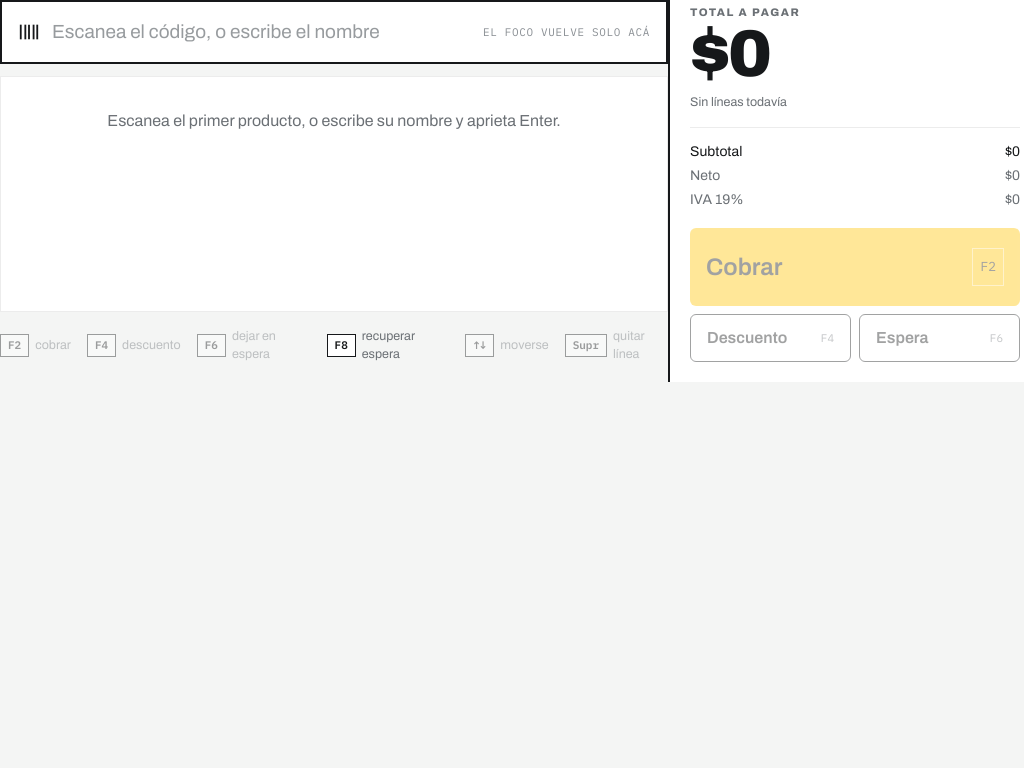
Test case: pagando en efectivo › mientras el billete no alcanza dice «Falta», no un vuelto de $0
Step 1. Type "FH-00010" into the dropdown → {"x": 262, "y": 32}, box [52, 18, 471, 46]
Then press Enter
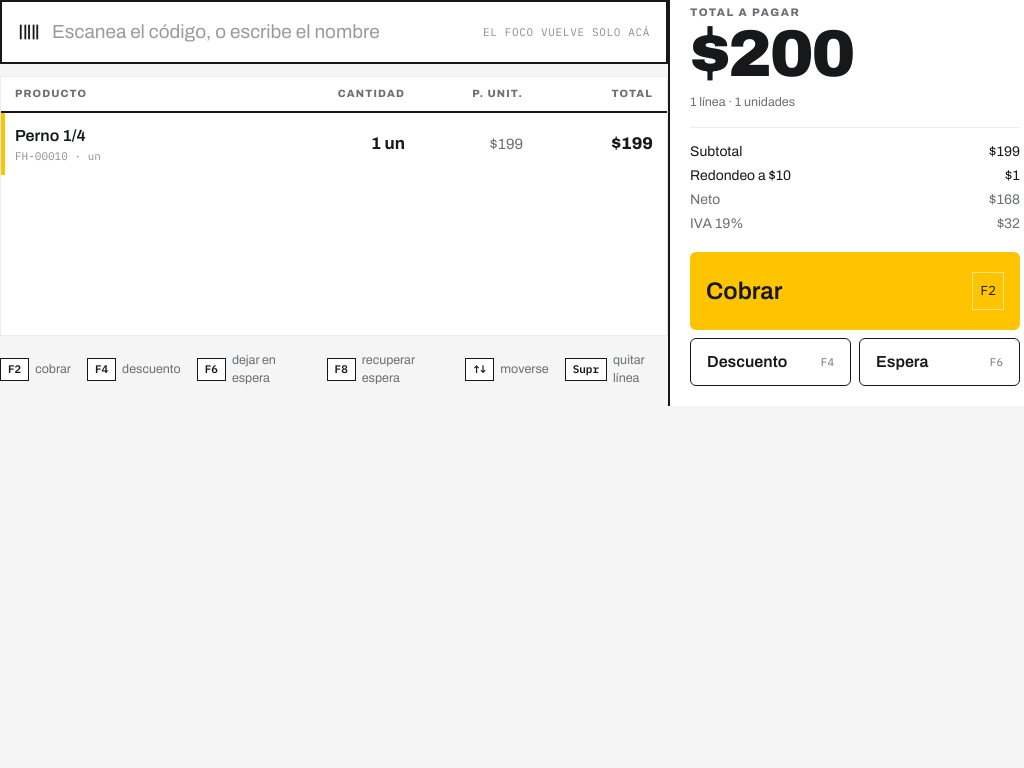
Expected: the table is shown, [1, 77, 667, 175]
Step 2. Press F2
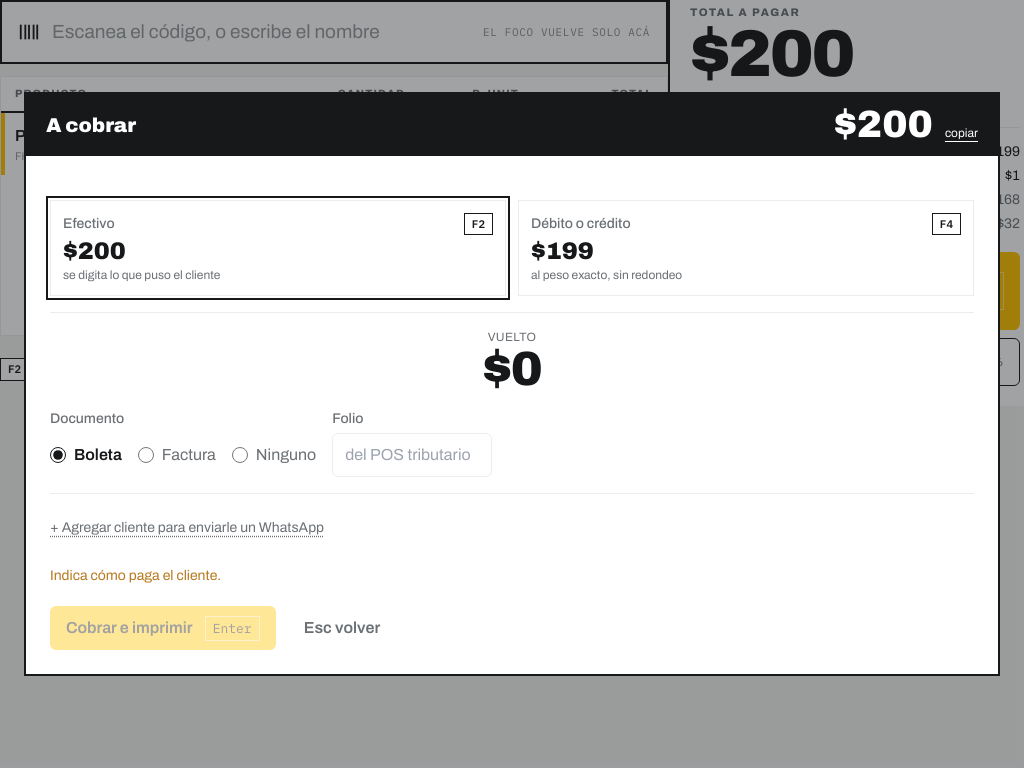
Expected: the dialog is shown
Step 3. Click the button "Efectivo F2 $200 se digita lo que puso el cliente" → {"x": 89, "y": 224}, box [50, 200, 506, 296]
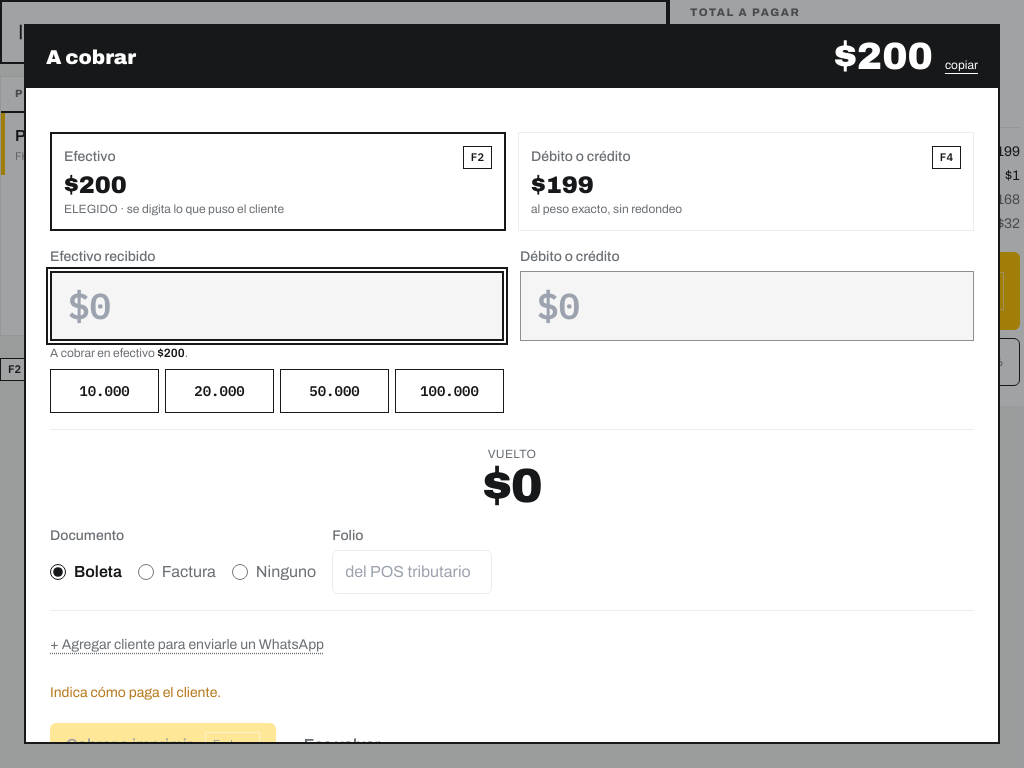
Step 4. Type "100" into the field labelled "Efectivo recibido" → {"x": 277, "y": 306}, box [50, 270, 504, 340]
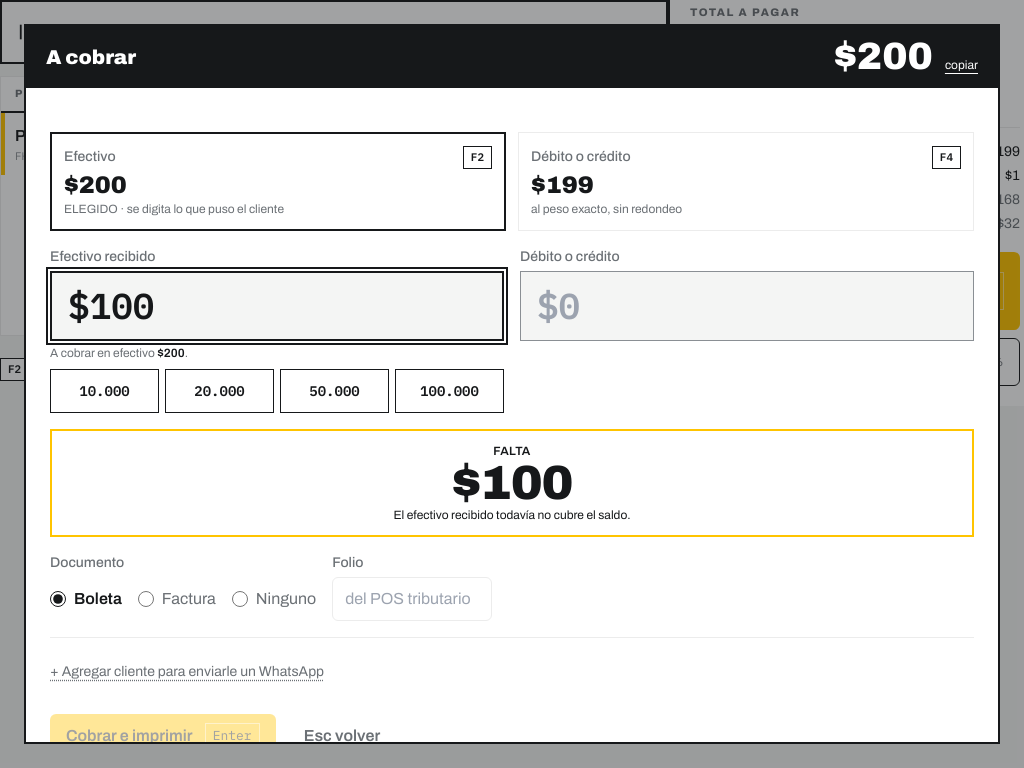
Expected: the button "Cobrar e imprimir Enter" is disabled, [50, 714, 276, 744]
Expected: the text "Vuelto" is gone
